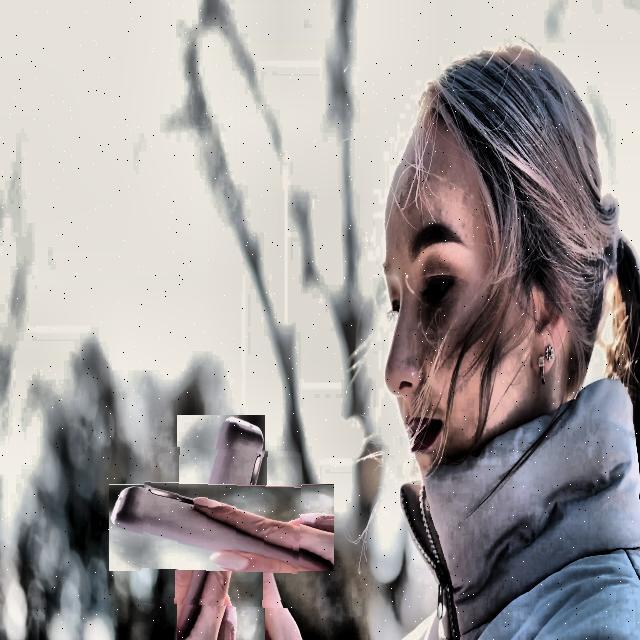Phone: (142, 448, 301, 607)
